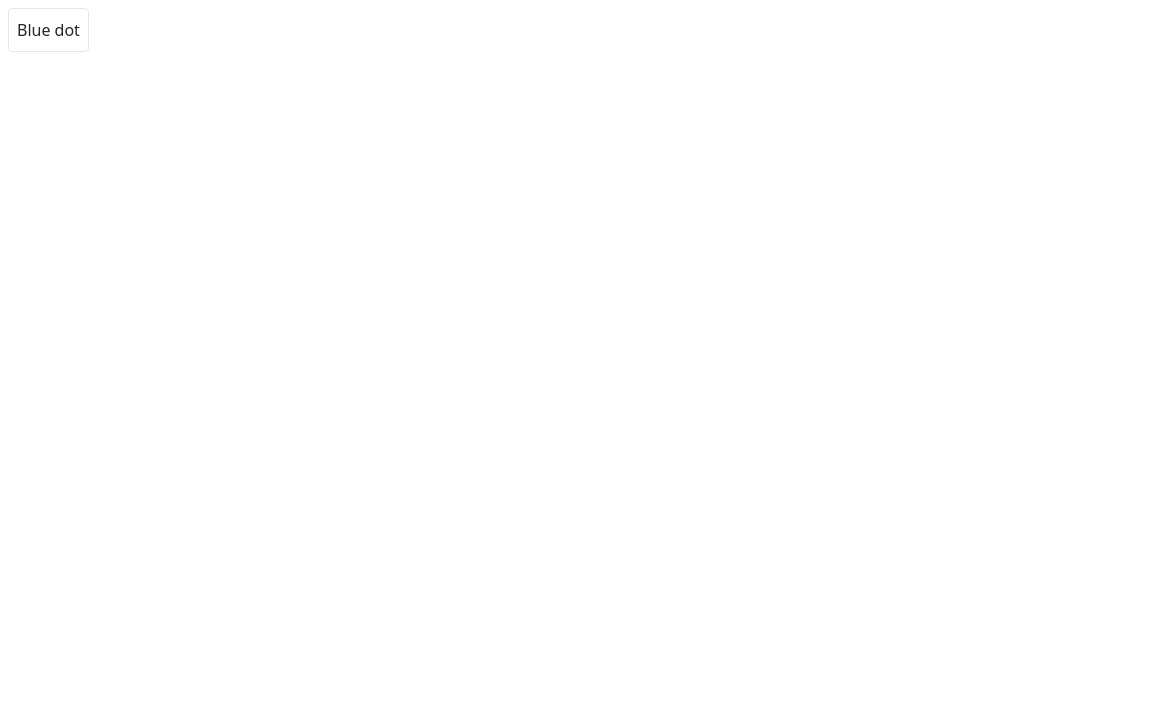
Test: CloudMarkup visual foundation › shows a directional trigger name until its detailed popover opens
Later steps or results of the test are not shown.
Focus the button with aria-label "Open Invokes output connections" at (48, 30), box [8,8,89,52]
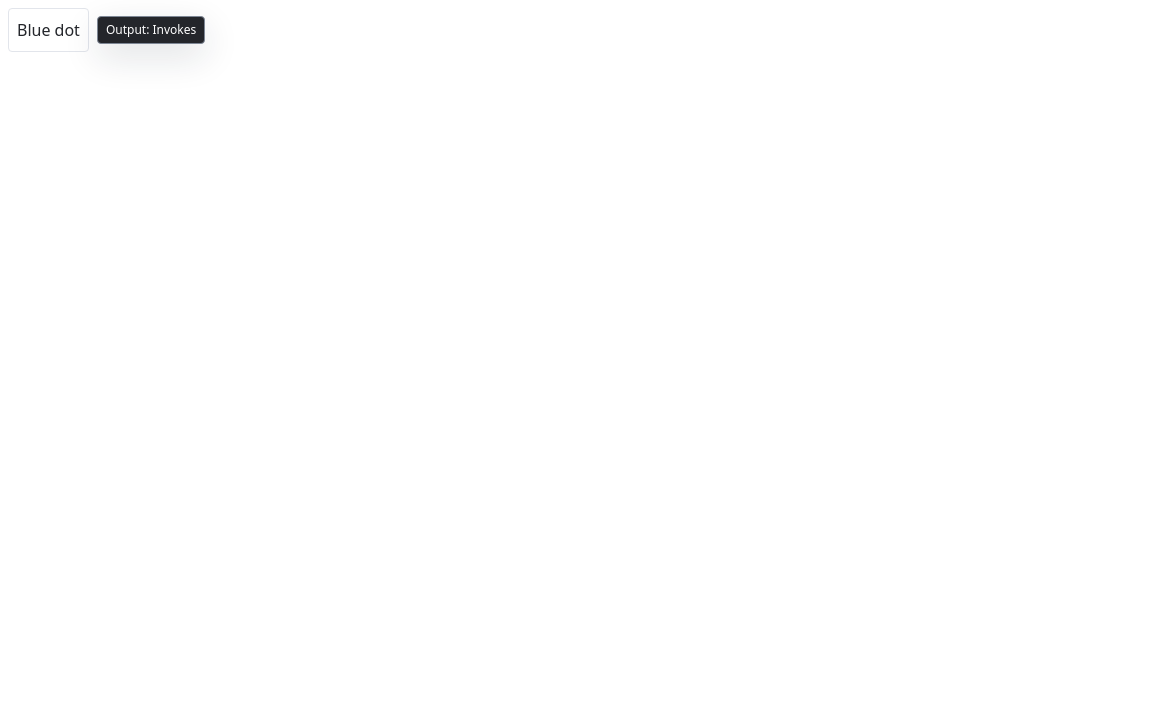
Check: the tooltip reads "Output: Invokes", box [106,21,196,38]
Click the button with aria-label "Open Invokes output connections" at (48, 30), box [8,8,89,52]
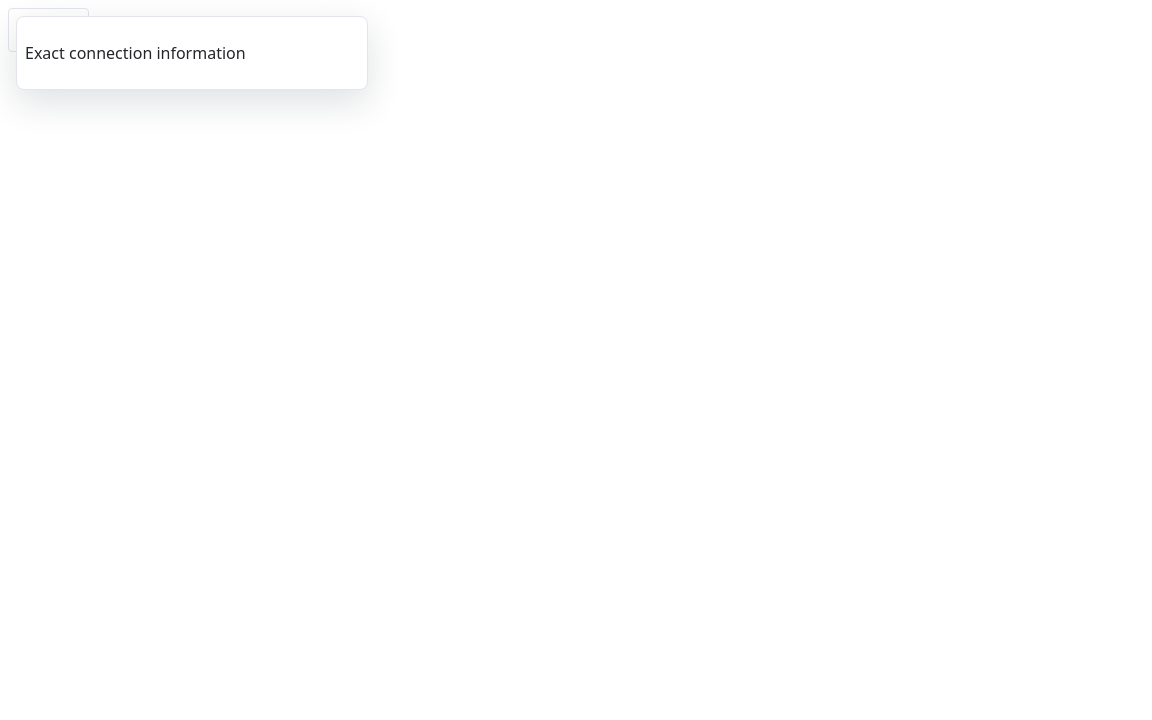
Check: the tooltip "Output: Invokes" is gone
Check: the dialog named "Invokes output connections" is shown, box [16,16,368,90]
